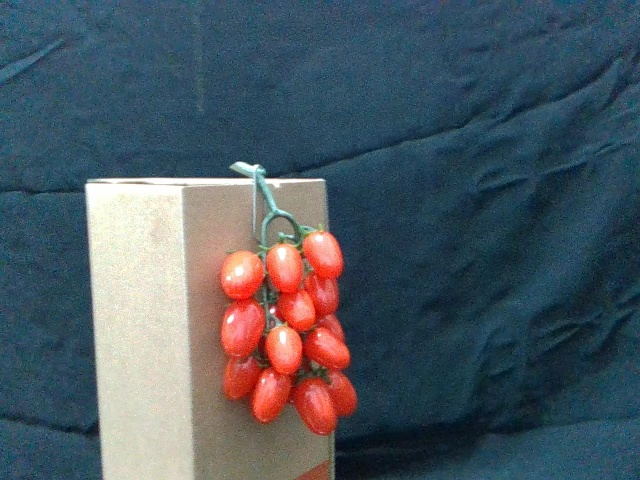tomato: (219, 299, 266, 359), (294, 376, 337, 437), (220, 249, 266, 301), (301, 224, 344, 279), (305, 324, 352, 372), (253, 367, 292, 424), (264, 241, 306, 293), (267, 324, 305, 378), (323, 366, 360, 420), (221, 354, 262, 402), (275, 286, 316, 332), (305, 270, 340, 313)
